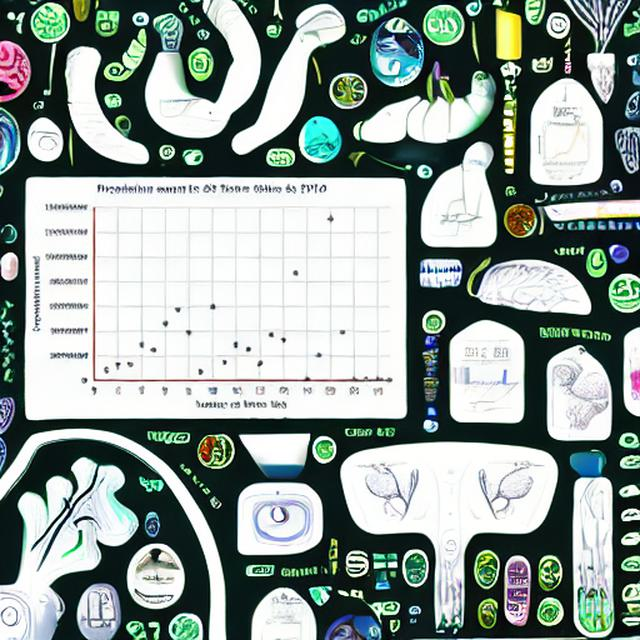Graph: (28, 179, 404, 415), (531, 120, 600, 167), (451, 358, 520, 401)
